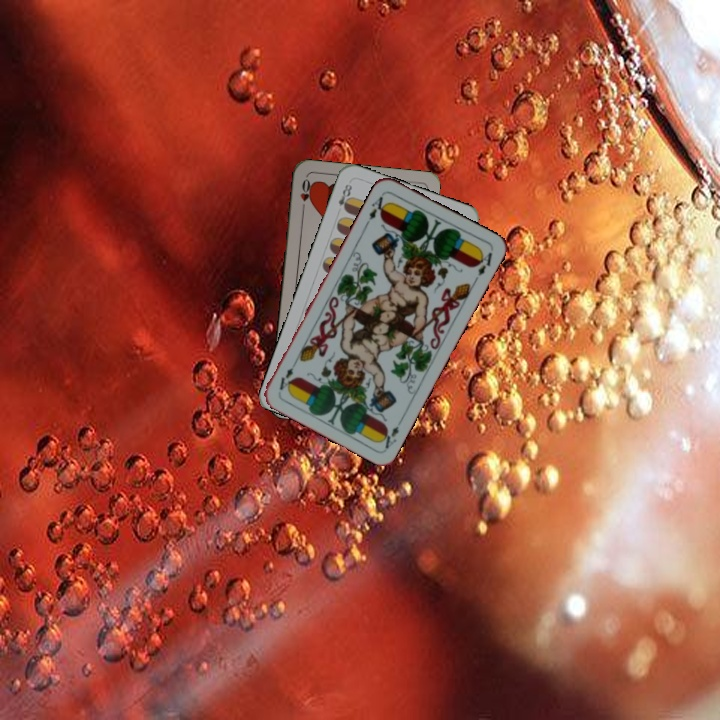E8: (334, 178, 355, 214)
EA: (376, 414, 405, 451), (362, 189, 390, 227)
HO: (296, 175, 314, 215)
